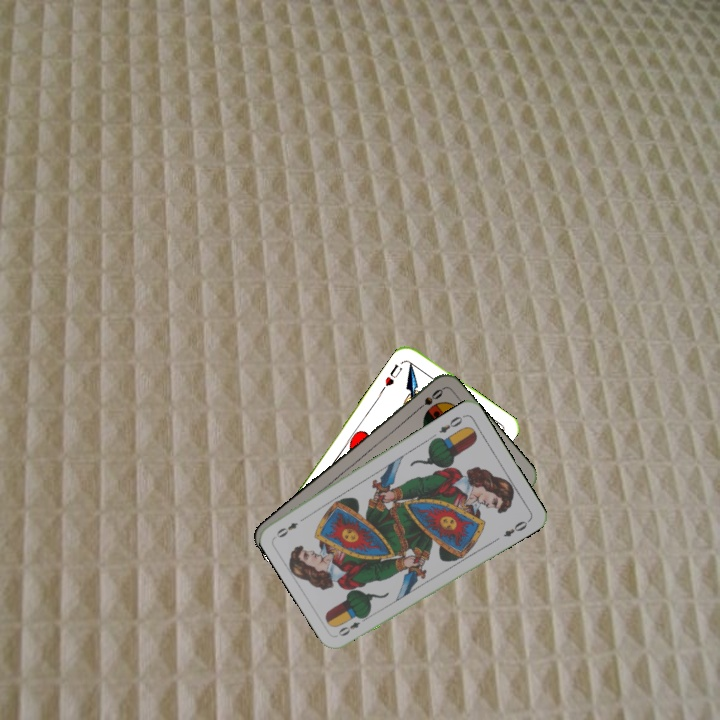EO: (334, 612, 371, 639), (435, 411, 467, 436)
HU: (378, 360, 404, 392)
SO: (411, 385, 446, 415)
